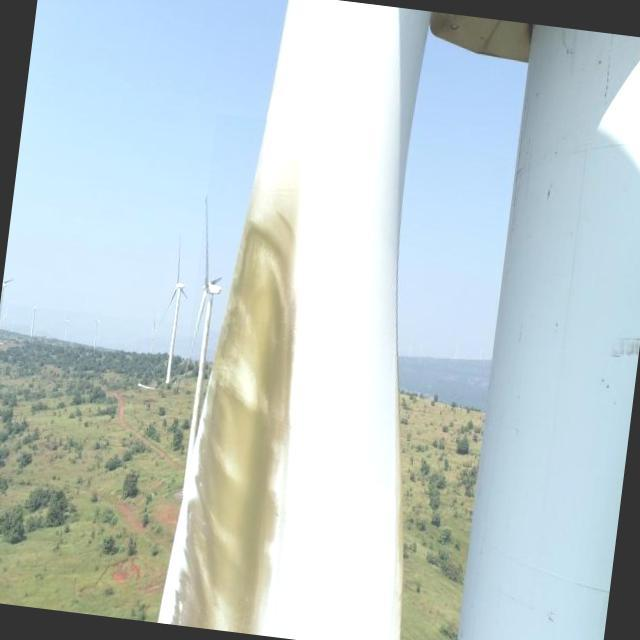Dirt: (170, 174, 295, 637)
